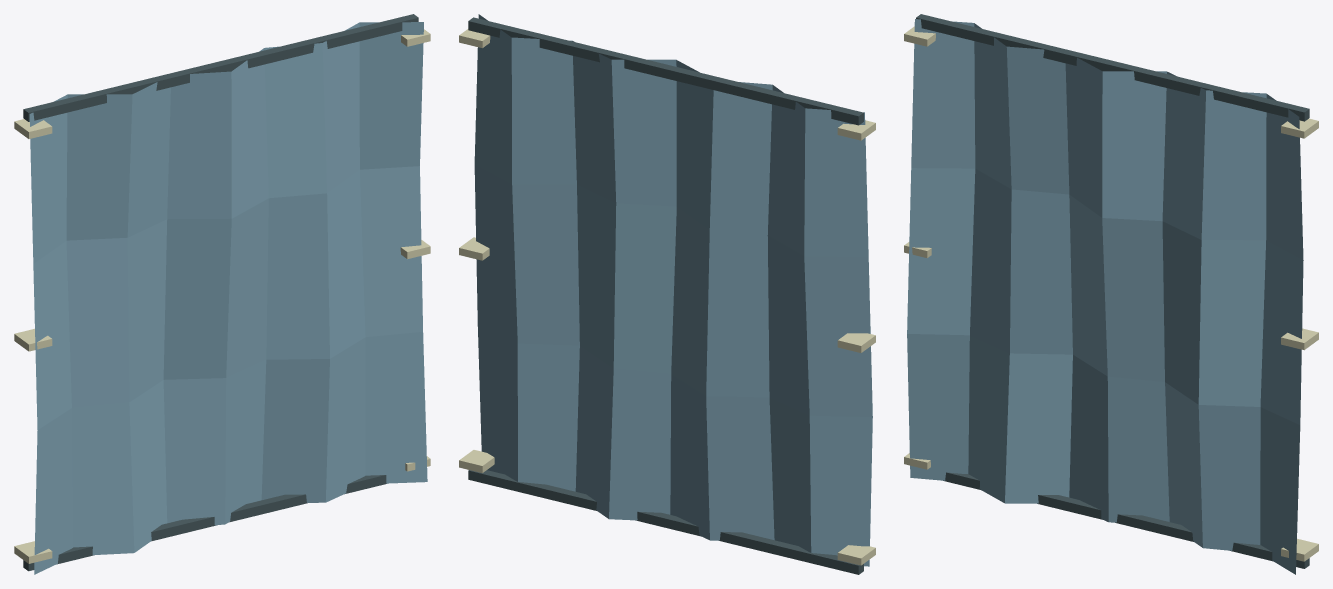
Rendered from TarpPanel.fbx.
3 views of the same model, side by side, from view 1: azimuth 30°, elevation 25°; view 2: azimuth 150°, elevation 25°; view 3: azimuth 330°, elevation 25° (orthographic).
Visible parts, largest first — view 1: TarpPanel_Export; view 2: TarpPanel_Export; view 3: TarpPanel_Export.
Part boxes in pixels (<box>): TarpPanel_Export: <box>14,14,430,574</box>; TarpPanel_Export: <box>459,14,875,574</box>; TarpPanel_Export: <box>904,14,1318,574</box>.
Bounding box in the file's own units: 2.06 × 2.24 × 0.1798.
